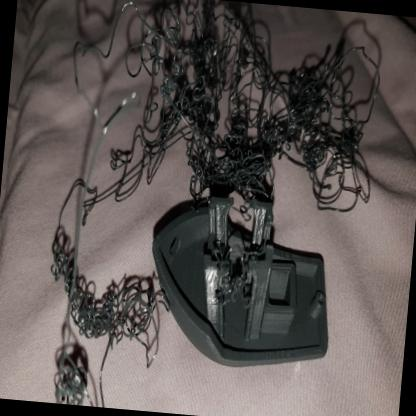fail: (95, 1, 387, 211), (71, 266, 158, 349)
